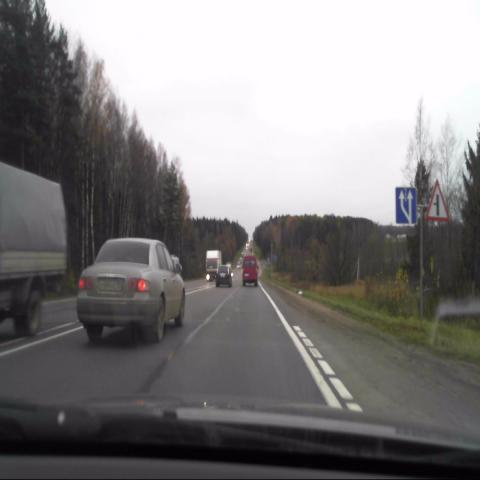2_3_3: (427, 178, 450, 221)
